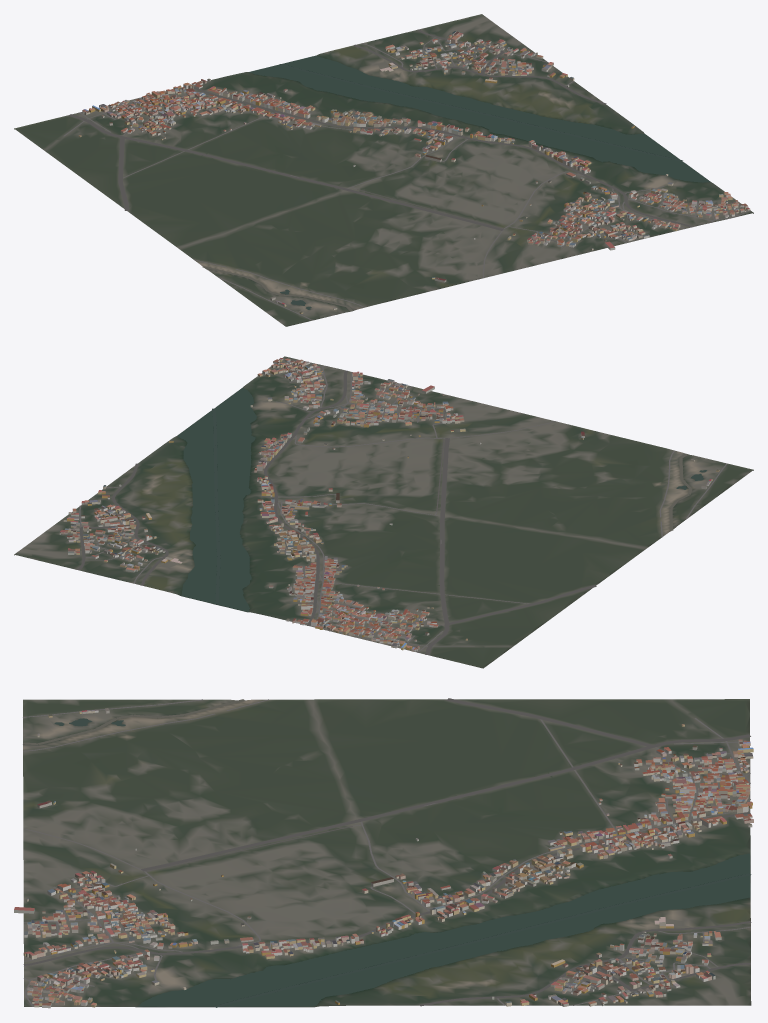
3 views of the same model, one above another, from view 1: azimuth 30°, elevation 25°; view 2: azimuth 150°, elevation 25°; view 3: azimuth 270°, elevation 25° (orthographic). The views are drawn at different scales.
Parts seen in each view (by area): view 1: ground, buildings, water, roads; view 2: ground, buildings, water, roads; view 3: ground, buildings, water, roads.
Boxes of the visible parts, x1=… form: ground: x1=14, y1=14, x2=753, y2=326; buildings: x1=78, y1=31, x2=750, y2=313; water: x1=202, y1=55, x2=710, y2=311; roads: x1=63, y1=29, x2=750, y2=320; ground: x1=14, y1=356, x2=753, y2=668; buildings: x1=59, y1=358, x2=719, y2=651; water: x1=177, y1=387, x2=706, y2=611; roads: x1=77, y1=358, x2=726, y2=654; ground: x1=23, y1=699, x2=751, y2=1007; buildings: x1=14, y1=708, x2=753, y2=1008; water: x1=23, y1=699, x2=751, y2=1007; roads: x1=23, y1=698, x2=751, y2=1006.
Bounding box in the file's own units: 1410 × 20.1 × 1427.
